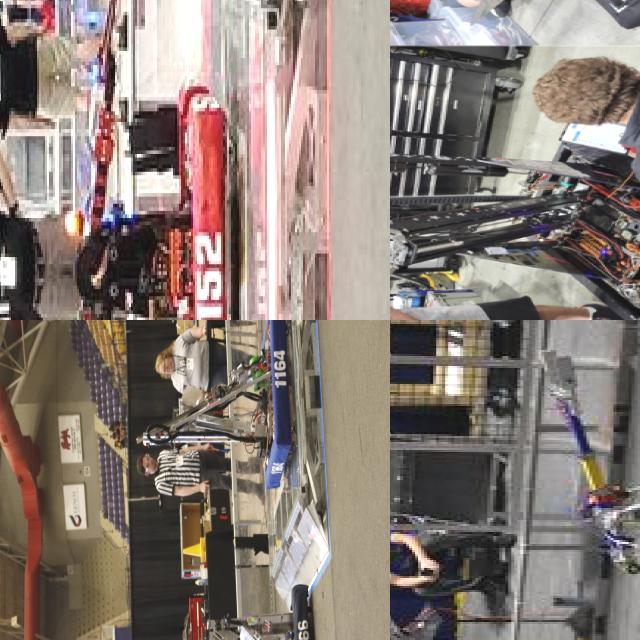FRC-Robots: (45, 0, 232, 320), (390, 105, 640, 320), (492, 346, 640, 622), (131, 320, 295, 502), (190, 571, 324, 640)
